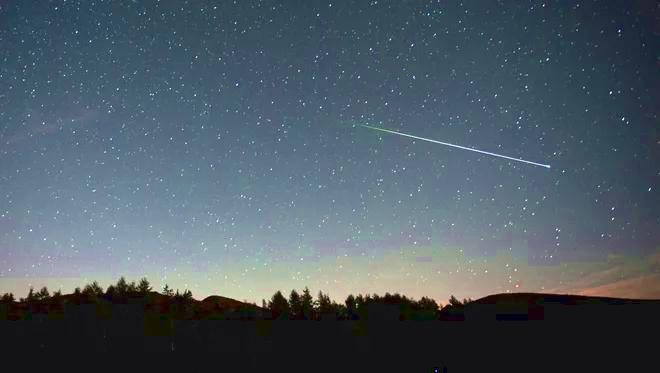meteorite: (342, 116, 560, 170)
